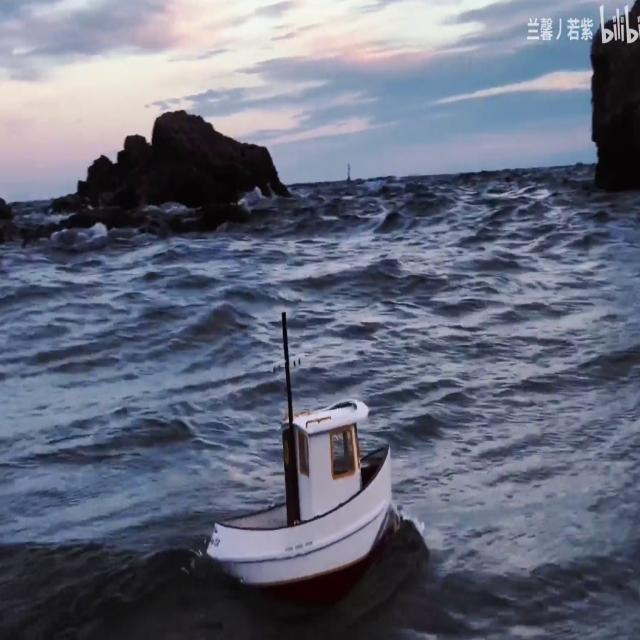houseboat: (210, 320, 400, 586)
